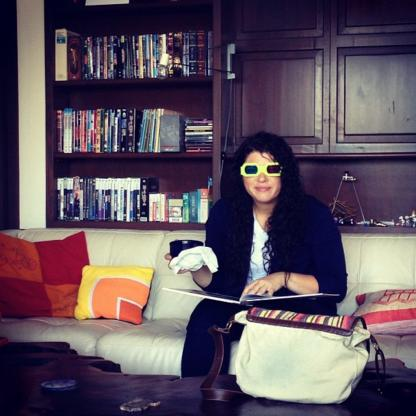book: (55, 25, 214, 77), (54, 106, 211, 152), (55, 175, 210, 220), (160, 289, 338, 306)
